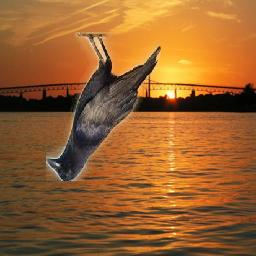Crow: (47, 33, 162, 182)
